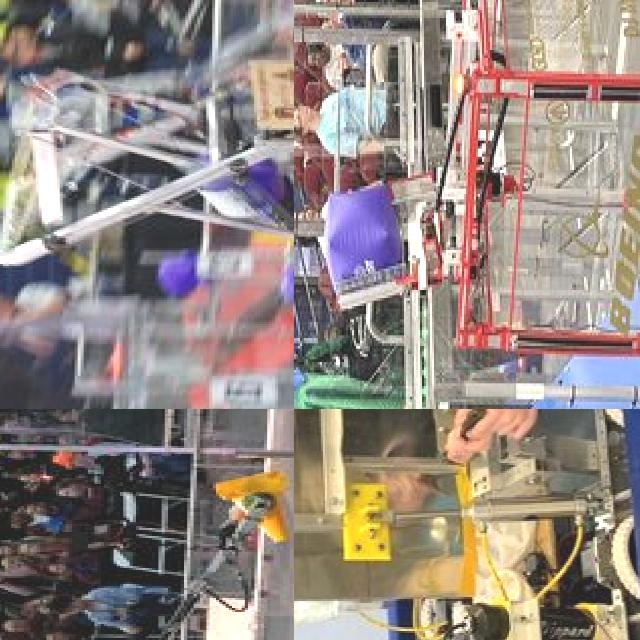FRC-Robots: (374, 0, 640, 409), (294, 409, 640, 640), (0, 31, 294, 281), (6, 573, 294, 640), (224, 0, 294, 58)
